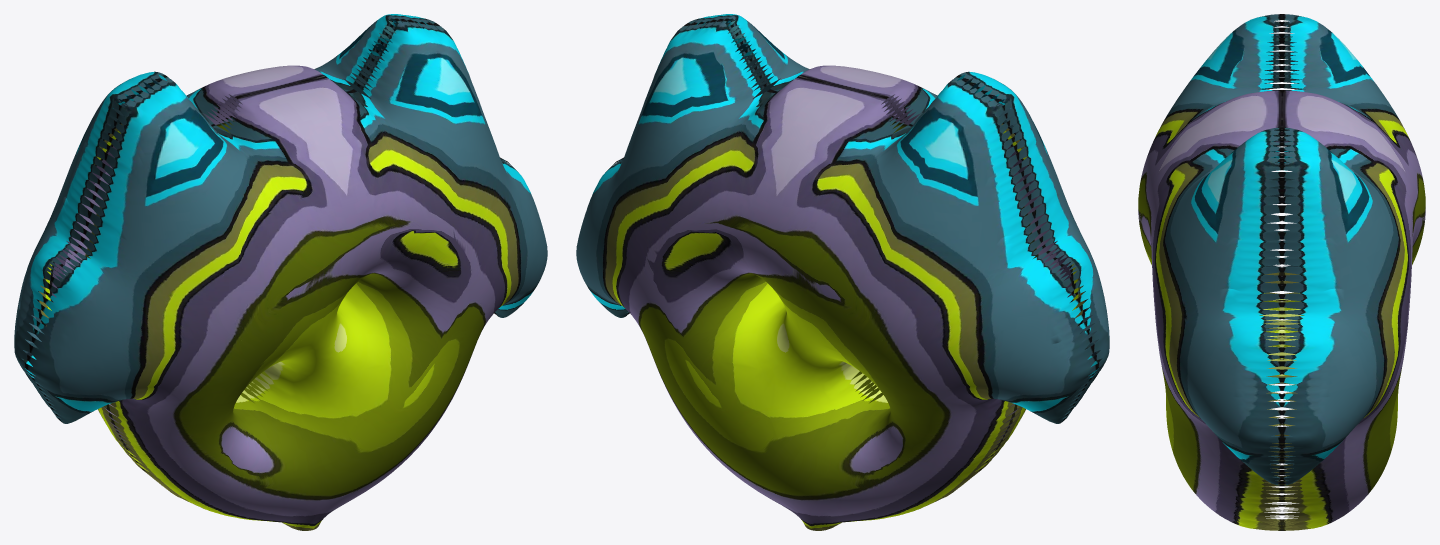
Rendered from front_reactor.glb.
The picture shows the model from 3 angles, left to right: view 1: azimuth 30°, elevation 25°; view 2: azimuth 150°, elevation 25°; view 3: azimuth 270°, elevation 25°; orthographic projection. The views are drawn at different scales.
Parts seen in each view (by area): view 1: front_reactor; view 2: front_reactor; view 3: front_reactor.
Boxes of the visible parts, x1,y1,x2,y2 form: front_reactor: (14, 14, 547, 530); front_reactor: (576, 14, 1109, 530); front_reactor: (1138, 14, 1425, 530).
Bounding box in the file's own units: 0.9882 × 0.8487 × 0.5022.
Materials: 1 (1 with a texture image).
